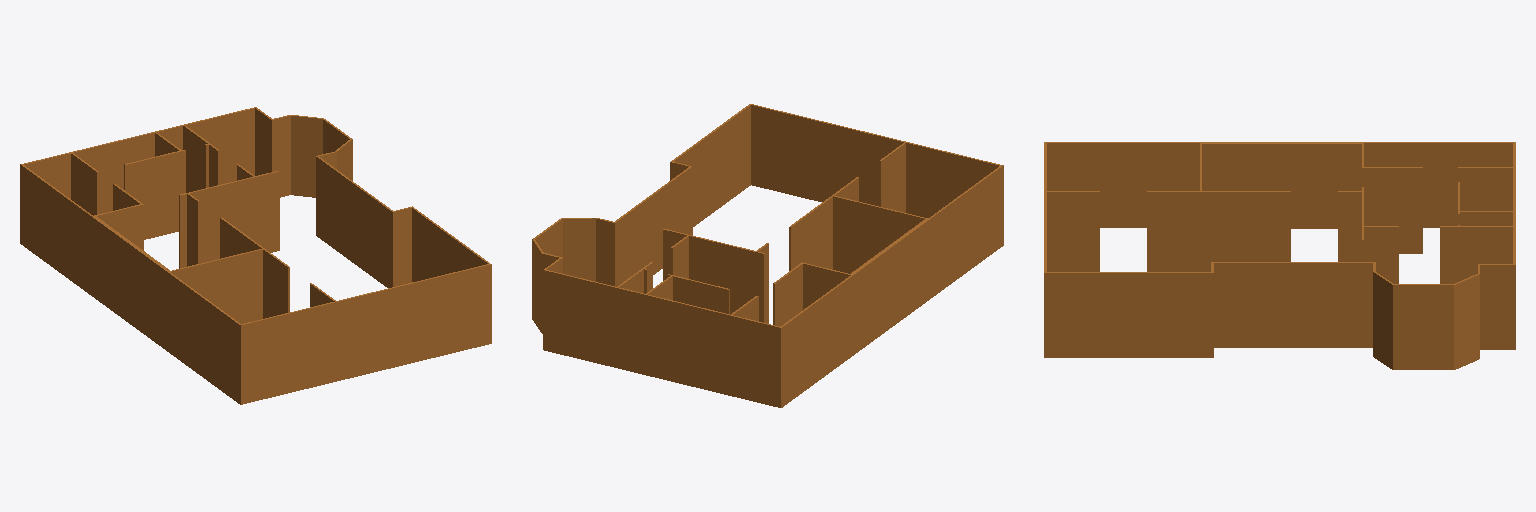
The robot description file, URDF, robot "home_floor_plan_v2":
<robot
  name="home_floor_plan_v2">
  <link
    name="home_floor_plan_v2">
    <inertial>
      <origin
        xyz="3.2748 0.78186 2"
        rpy="0 0 0" />
      <mass
        value="45364" />
      <inertia
        ixx="3160549.96435676"
        ixy="2.44949187020765E-10"
        ixz="2.84012483982135E-10"
        iyy="2135011.41344835"
        iyz="57538.8845276572"
        izz="1146510.50282248" />
    </inertial>
    <visual>
      <origin
        xyz="0 0 0"
        rpy="1.5707963267949 0 -1.5707963267949" />
      <geometry>
        <mesh
          filename="package://home_floor_plan_v2/meshes/home_floor_plan_v2.STL" />
      </geometry>
      <material
        name="">
        <color
          rgba="0.72941 0.48627 0.23922 1" />
      </material>
    </visual>
    <collision>
      <origin
        xyz="0 0 0"
        rpy="1.5707963267949 0 -1.5707963267949" />
      <geometry>
        <mesh
          filename="package://home_floor_plan_v2/meshes/home_floor_plan_v2.STL" />
      </geometry>
    </collision>
  </link>
</robot>

--- Render facts (derived) ---
The picture shows the robot from 3 angles, left to right: view 1: azimuth 30°, elevation 25°; view 2: azimuth 150°, elevation 25°; view 3: azimuth 270°, elevation 25°; orthographic projection.
Model home_floor_plan_v2 with 1 links and 0 joints (none), rooted at home_floor_plan_v2, posed all joints at 0.
Links seen in each view (by area): view 1: home_floor_plan_v2; view 2: home_floor_plan_v2; view 3: home_floor_plan_v2.
Link boxes in pixels (<box>): home_floor_plan_v2: <box>20,107,491,404</box>; home_floor_plan_v2: <box>532,104,1003,407</box>; home_floor_plan_v2: <box>1044,142,1515,369</box>.
Size in the robot's own frame: 14.47 by 20.05 by 4 metres.
Meshes: 1 distinct files referenced, 1 mesh visuals loaded (1 binary STL).